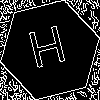H: (25, 25, 71, 78)
